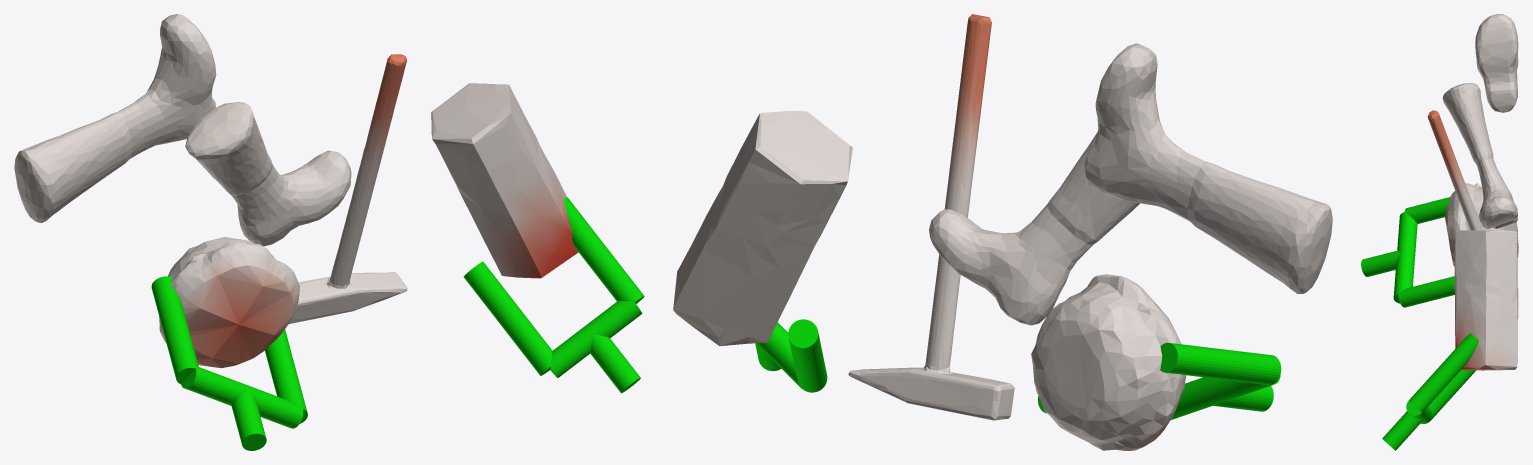
The model's file is round_000_trial_000.obj.
3 renders of one model, left to right at view 1: azimuth 30°, elevation 25°; view 2: azimuth 150°, elevation 25°; view 3: azimuth 270°, elevation 25°, orthographic. The views are drawn at different scales.
Parts seen in each view (by area): view 1: geometry_0, geometry_1, geometry_2; view 2: geometry_0, geometry_2, geometry_1; view 3: geometry_0, geometry_2, geometry_1.
Part boxes in pixels (x1=…): geometry_0: x1=14, y1=14, x2=578, y2=368; geometry_1: x1=463, y1=197, x2=644, y2=393; geometry_2: x1=151, y1=276, x2=307, y2=450; geometry_0: x1=673, y1=14, x2=1332, y2=450; geometry_2: x1=1037, y1=342, x2=1281, y2=419; geometry_1: x1=755, y1=319, x2=827, y2=392; geometry_0: x1=1427, y1=14, x2=1518, y2=370; geometry_2: x1=1361, y1=197, x2=1454, y2=307; geometry_1: x1=1382, y1=333, x2=1478, y2=450.
Size of the model in its own units: 0.2603 by 0.1818 by 0.086.
